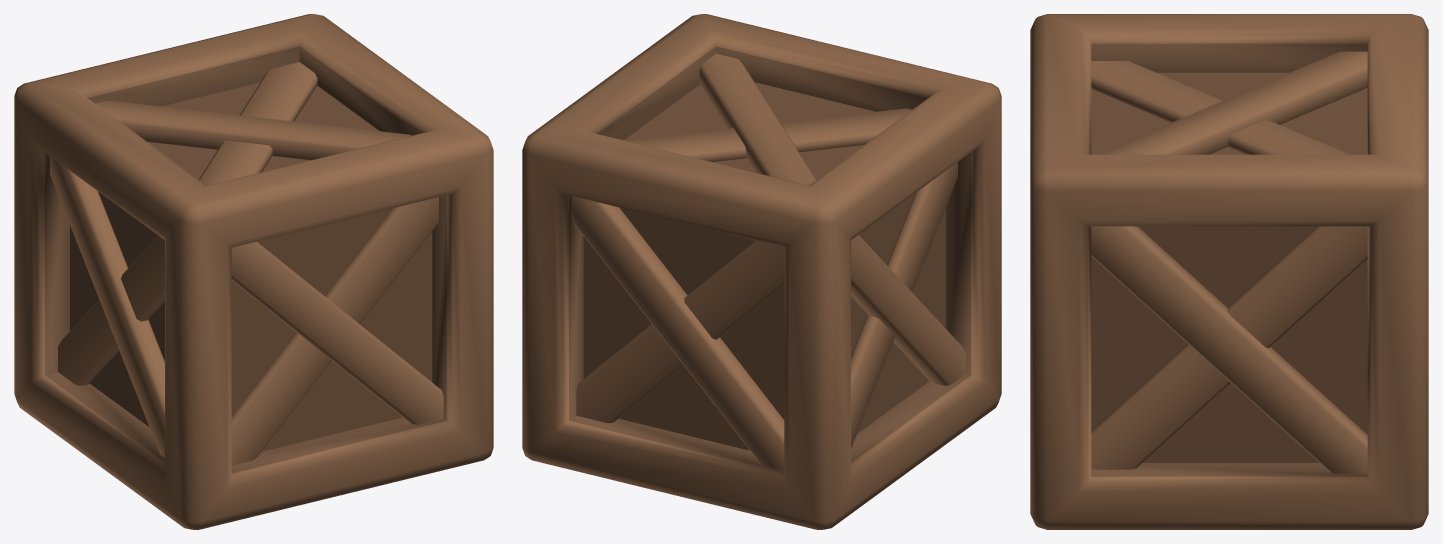
File: Crate_1x1.glb
3 views of the same model, side by side, from view 1: azimuth 30°, elevation 25°; view 2: azimuth 150°, elevation 25°; view 3: azimuth 270°, elevation 25° (orthographic). The views are drawn at different scales.
Visible parts, largest first — view 1: Crate 1x1; view 2: Crate 1x1; view 3: Crate 1x1.
Part boxes in pixels (x1,y1,x2,y2): Crate 1x1: [14, 14, 493, 529]; Crate 1x1: [522, 14, 1001, 529]; Crate 1x1: [1030, 14, 1428, 529].
Size of the model in its own units: 2 by 2 by 2.
